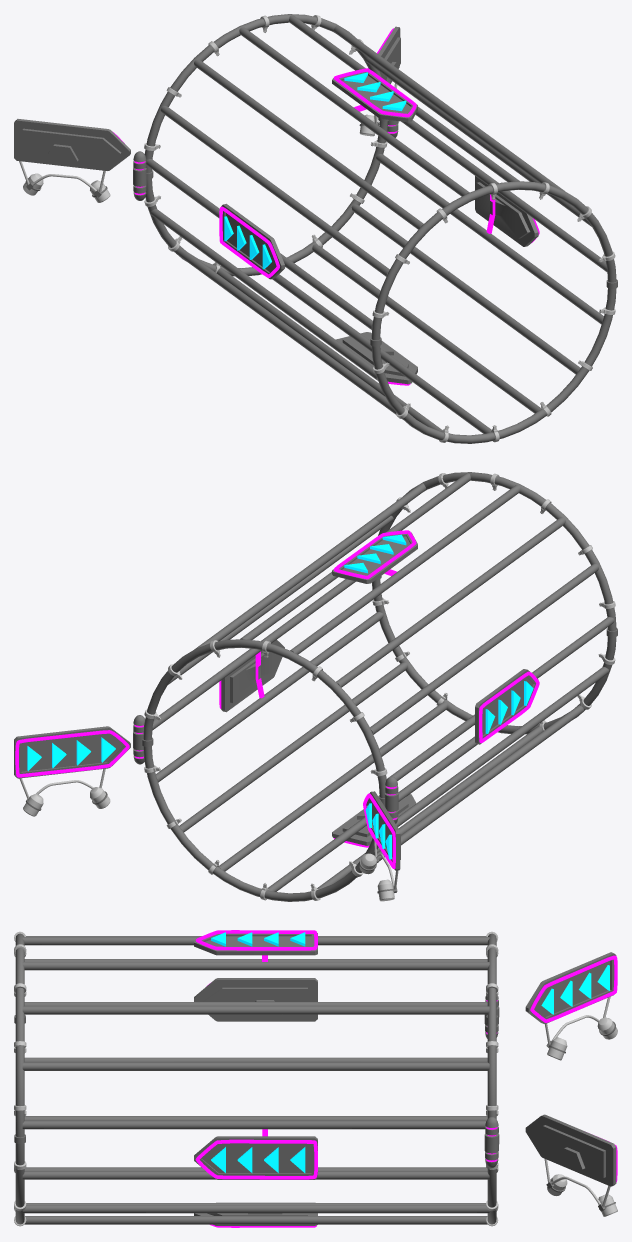
Rendered from SpeedBoostZone.fbx.
3 views of the same model, one above another, from view 1: azimuth 30°, elevation 25°; view 2: azimuth 150°, elevation 25°; view 3: azimuth 270°, elevation 25° (orthographic). The views are drawn at different scales.
Visible parts, largest first — view 1: Central_Rods, Middle_Signs, Back_Ring, Front_Signs, Front_Ring, Bollards; view 2: Central_Rods, Middle_Signs, Front_Signs, Front_Ring, Back_Ring, Bollards; view 3: Central_Rods, Middle_Signs, Front_Signs, Back_Ring, Front_Ring, Bollards.
Boxes of the visible parts, box(x1,y1,x2,y2) form: Central_Rods: box(146, 15, 607, 433); Middle_Signs: box(219, 68, 539, 385); Back_Ring: box(370, 181, 617, 443); Front_Signs: box(14, 26, 400, 202); Front_Ring: box(144, 14, 388, 276); Bollards: box(133, 120, 398, 200); Central_Rods: box(152, 473, 614, 891); Middle_Signs: box(219, 530, 539, 847); Front_Signs: box(14, 726, 400, 901); Front_Ring: box(142, 639, 387, 901); Back_Ring: box(372, 472, 617, 734); Bollards: box(133, 715, 398, 823); Central_Rods: box(22, 936, 489, 1224); Middle_Signs: box(194, 930, 317, 1227); Front_Signs: box(525, 952, 617, 1216); Back_Ring: box(14, 931, 26, 1226); Front_Ring: box(486, 931, 498, 1226); Bollards: box(484, 996, 499, 1168).
Size of what is drawn, in the model's own units: 2344 by 1581 by 3072.
